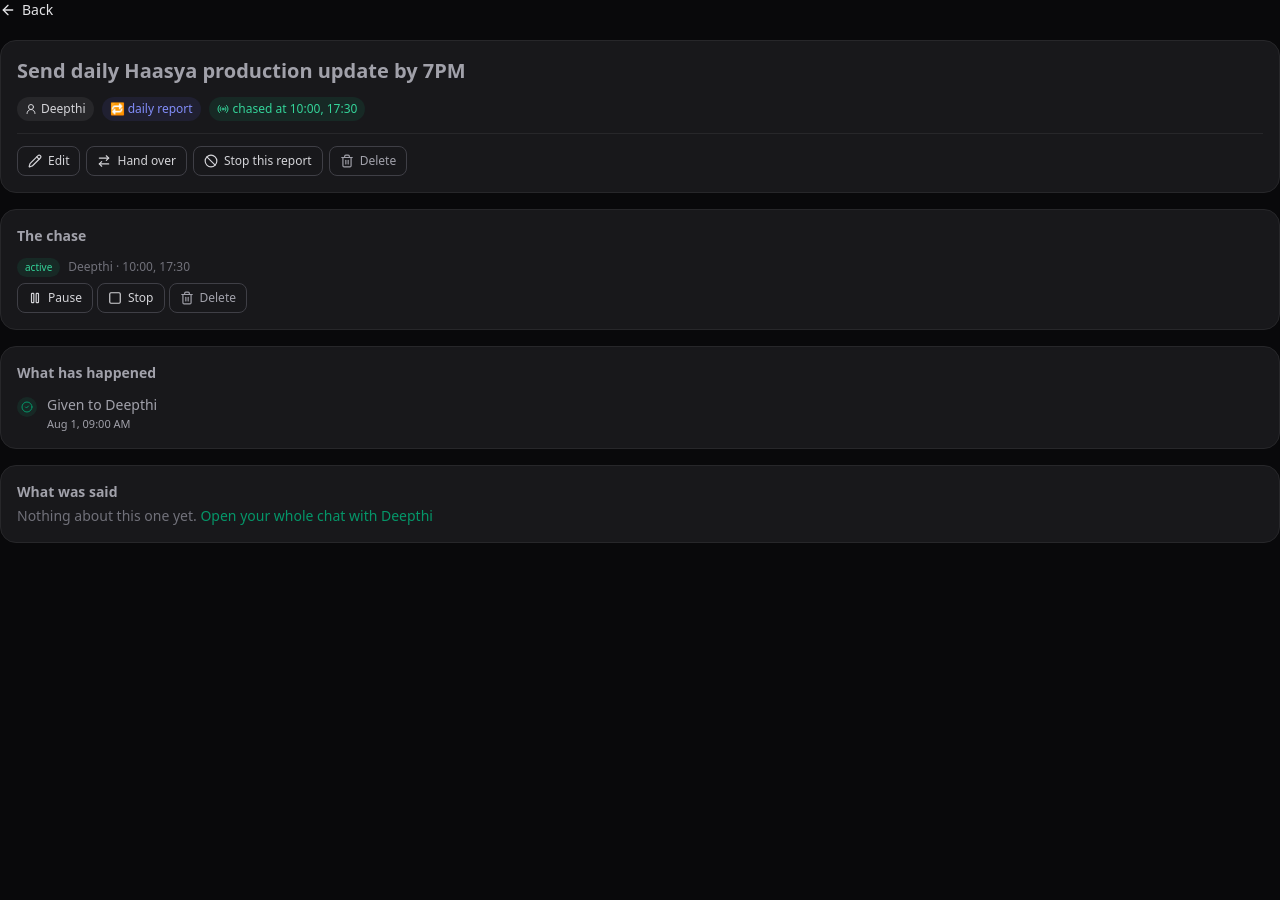
a daily report is not a job that finishes (BEA-1315) › stopping one talks about the arrangement, not about failing
Step 1. Click the button "Stop this report" → click(258, 160), box [193, 146, 323, 176]
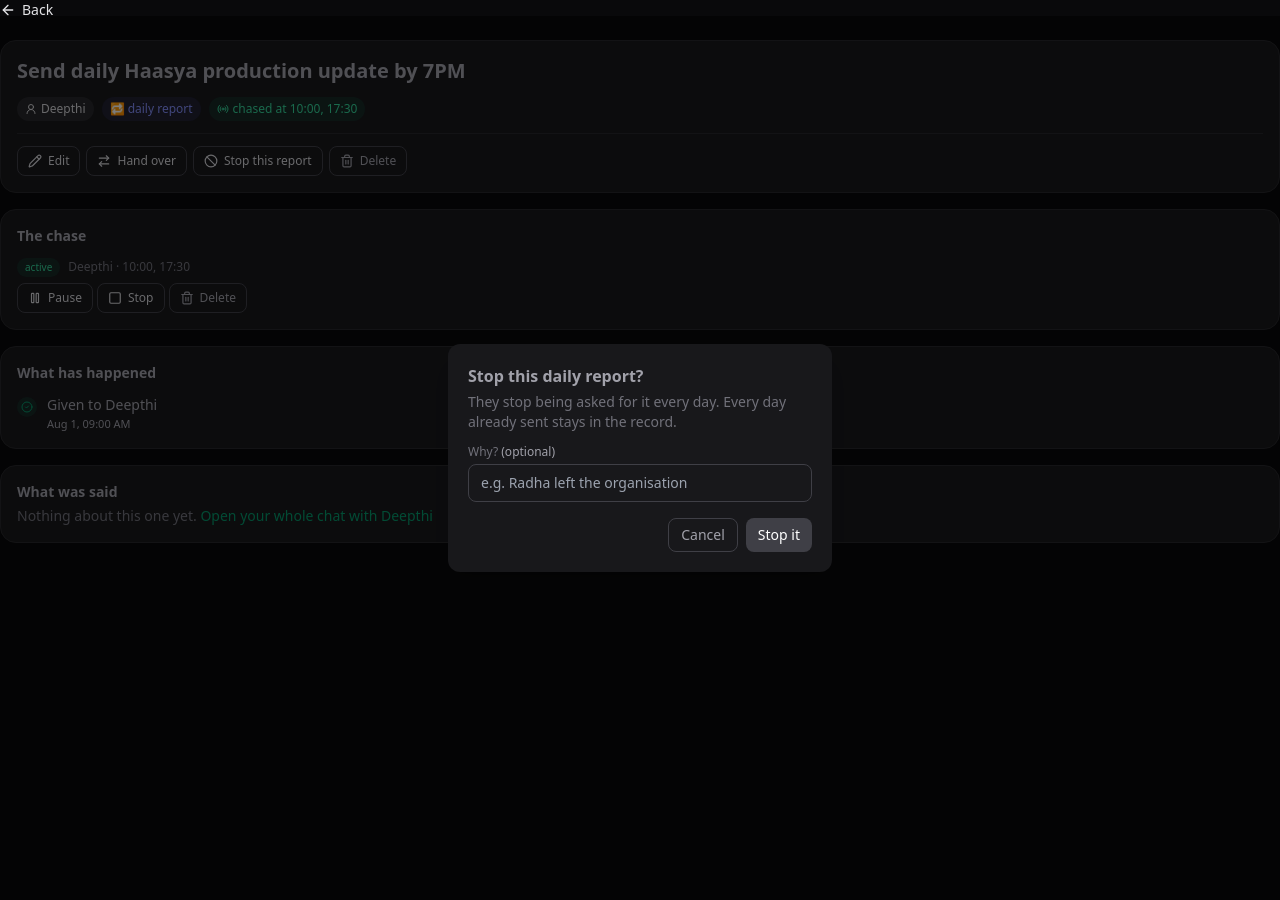
Expected: the heading "Stop this daily report?" is shown, [468, 365, 644, 387]
Expected: the text "Every day already sent stays in the record" is shown, [468, 392, 786, 431]
